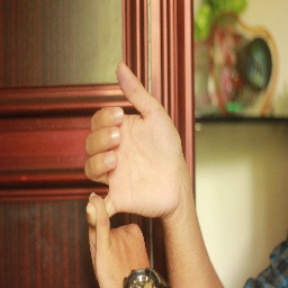S: (85, 60, 182, 288)
